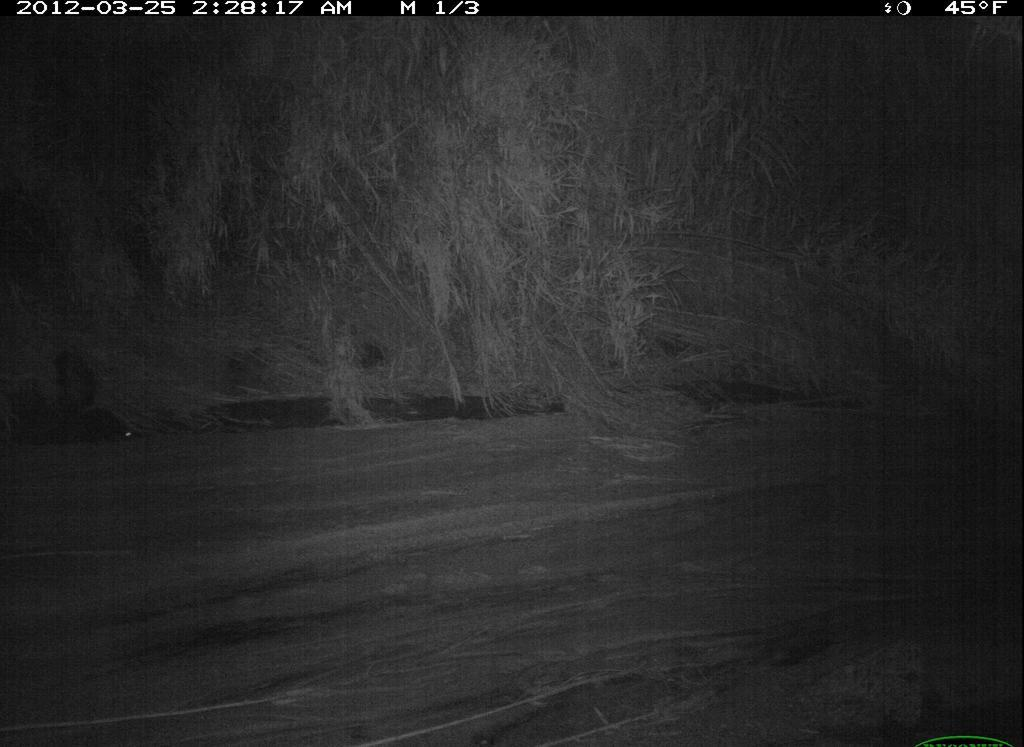skunk: (3, 340, 146, 463)
